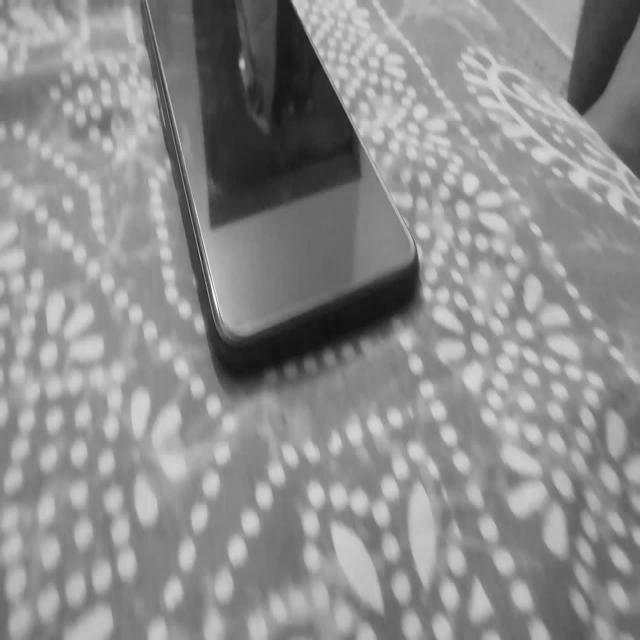fake: (138, 4, 424, 380)
